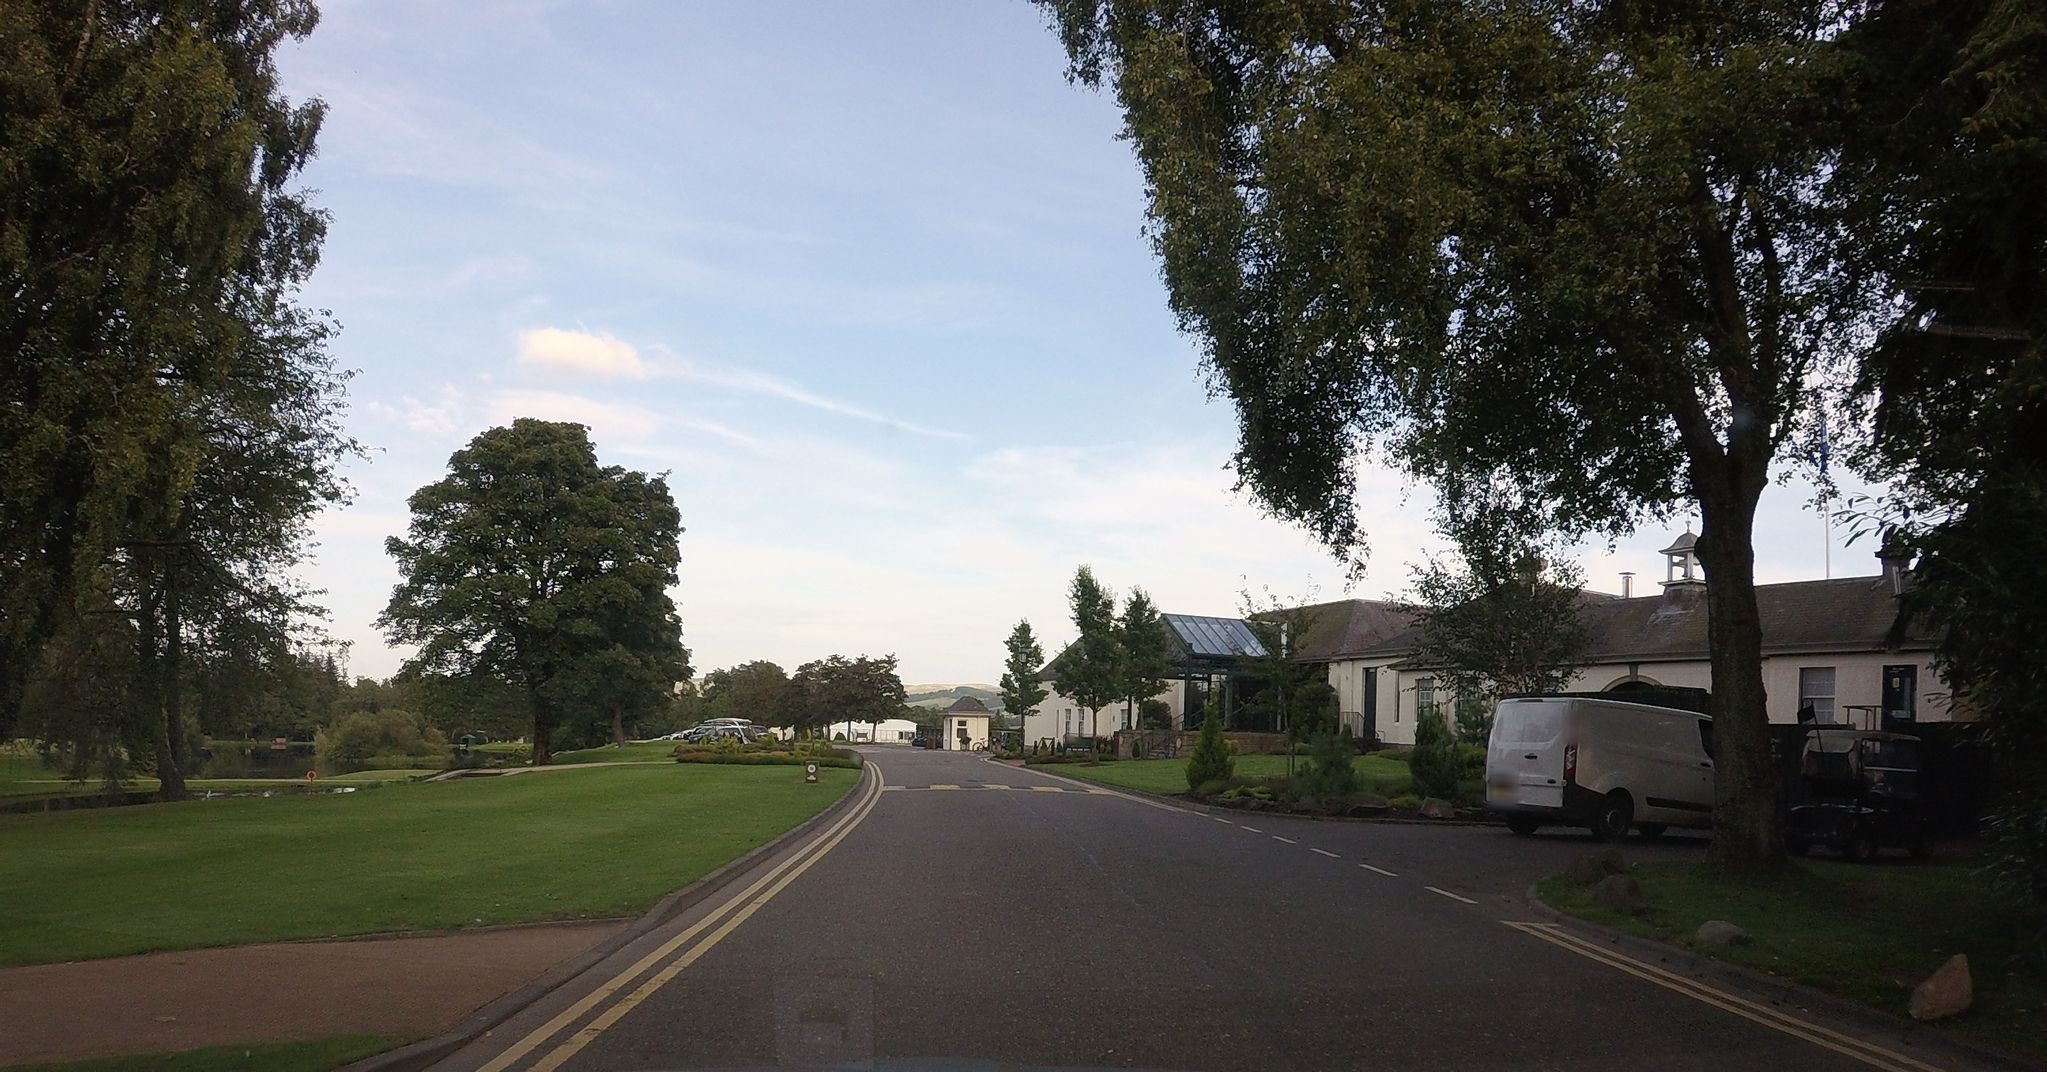car: (1481, 697, 1717, 841)
